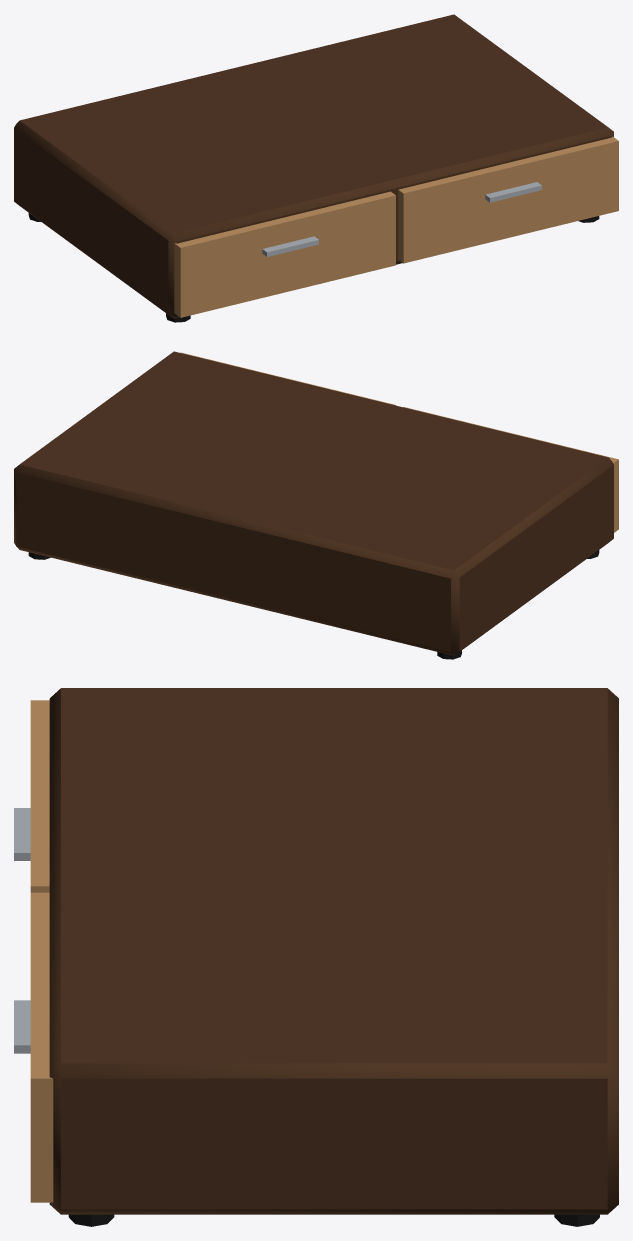
File: locker_under_bed_drawers.glb
3 renders of one model, top to bottom at view 1: azimuth 30°, elevation 25°; view 2: azimuth 150°, elevation 25°; view 3: azimuth 270°, elevation 25°, orthographic. The views are drawn at different scales.
Visible parts, largest first — view 1: locker_under_bed_drawers; view 2: locker_under_bed_drawers; view 3: locker_under_bed_drawers.
Part boxes in pixels (<box>): locker_under_bed_drawers: <box>14,14,618,322</box>; locker_under_bed_drawers: <box>14,351,618,659</box>; locker_under_bed_drawers: <box>14,688,618,1226</box>.
Bounding box in the file's own units: 1.2 × 0.24 × 0.797.
